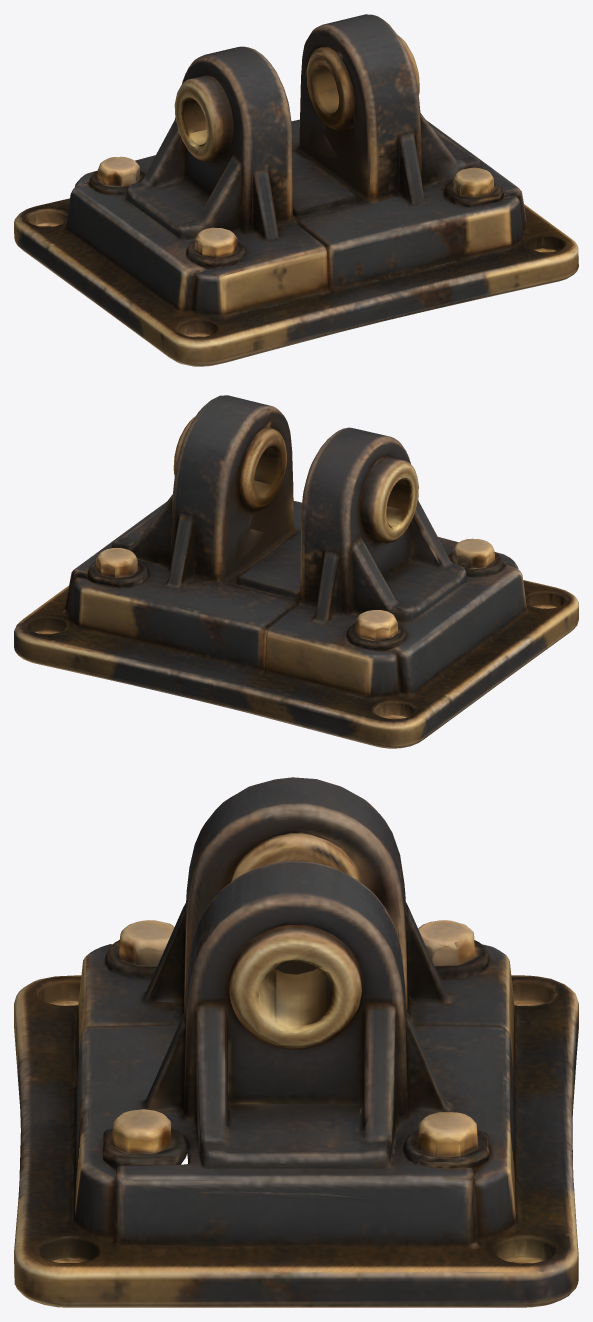
Rendered from level_handler.glb.
3 renders of one model, top to bottom at view 1: azimuth 30°, elevation 25°; view 2: azimuth 150°, elevation 25°; view 3: azimuth 270°, elevation 25°, orthographic. The views are drawn at different scales.
Visible parts, largest first — view 1: Mesh_0; view 2: Mesh_0; view 3: Mesh_0.
Part boxes in pixels (box(x1,y1,x2,y2)): Mesh_0: box(14, 14, 578, 366); Mesh_0: box(14, 395, 578, 748); Mesh_0: box(14, 777, 578, 1307).
Size of the model in its own units: 0.9115 by 0.4695 by 0.7281.
Materials: 1 (1 with a texture image).
